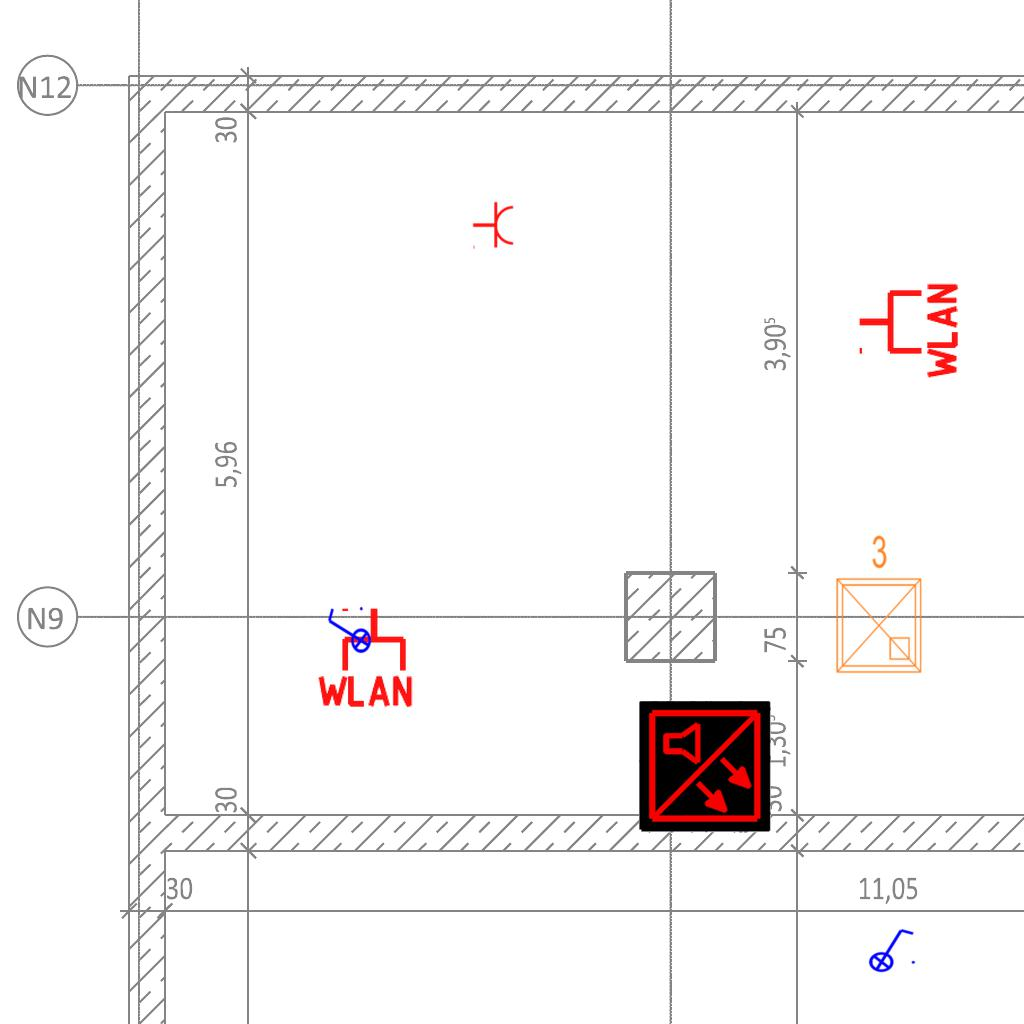Ausschalter_beleuchtet: (862, 925, 918, 973), (324, 604, 372, 660)
Einbaudownlights_LED_Konferenzraeume: (825, 530, 929, 680)
OKW_Multisensormelder_(Kombination_optischer_Rauch-Kahlenmonoxid_Waerme-Melder): (639, 701, 771, 833)
Schukosteckdose_einfach: (472, 201, 515, 251)
WLAN: (855, 279, 960, 383), (313, 604, 417, 709)
